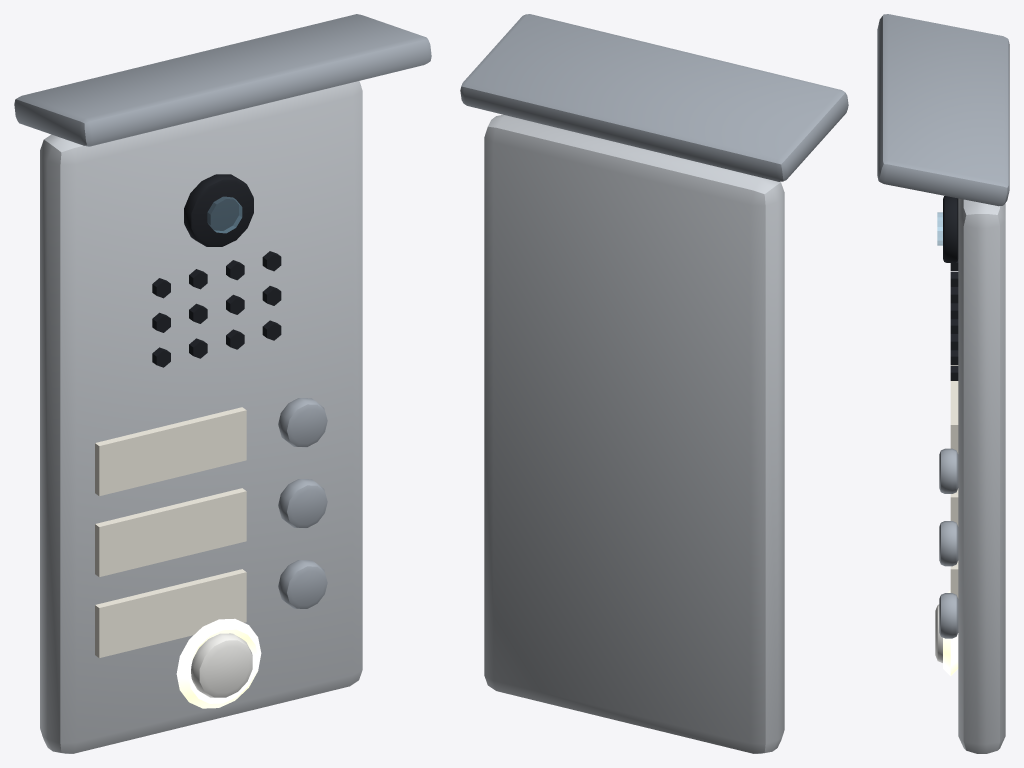
The model's file is interfone_campainha.glb.
The picture shows the model from 3 angles, left to right: view 1: azimuth 30°, elevation 25°; view 2: azimuth 150°, elevation 25°; view 3: azimuth 270°, elevation 25°; orthographic projection. The views are drawn at different scales.
Parts seen in each view (by area): view 1: interfone_campainha; view 2: interfone_campainha; view 3: interfone_campainha.
Boxes of the visible parts, x1,y1,x2,y2 form: interfone_campainha: (14,14,431,753); interfone_campainha: (460,14,848,753); interfone_campainha: (877,14,1009,753).
Size of the model in its own units: 0.19 by 0.3524 by 0.0697.
3 materials, 1 textured.
